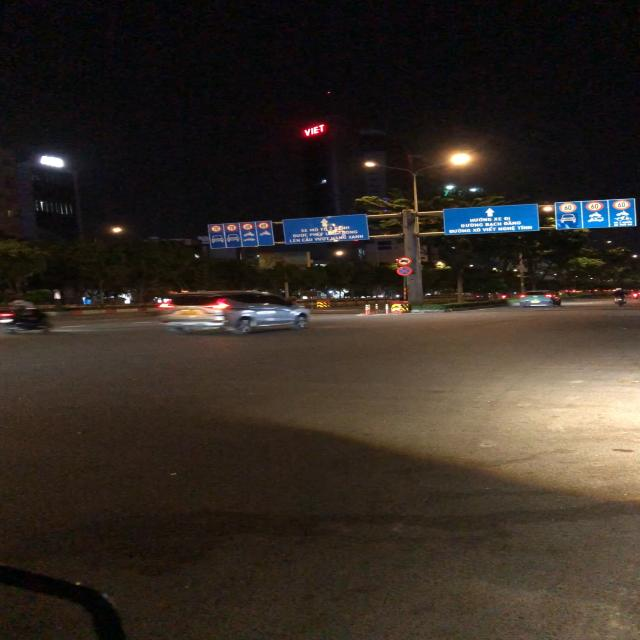Bien bao cam dung xe va do xe: (396, 266, 414, 277)
Bien bao cam xe oto tai: (396, 256, 412, 266)
Bien bao toc do toi da cho phep: (585, 200, 606, 212), (558, 202, 578, 214), (611, 200, 632, 210), (208, 224, 222, 233), (224, 223, 238, 232), (240, 222, 255, 230), (256, 222, 271, 230)
